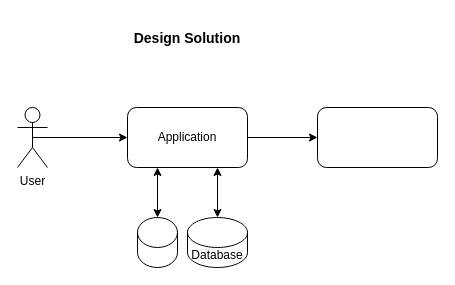
Some shapes in this 455 by 285 pixel diagram are drawn without their labels. The centre of each missing label's shape, as x and y in pixels:
"Cache" belongs at point (157, 242).
"External API" belongs at point (377, 137).
